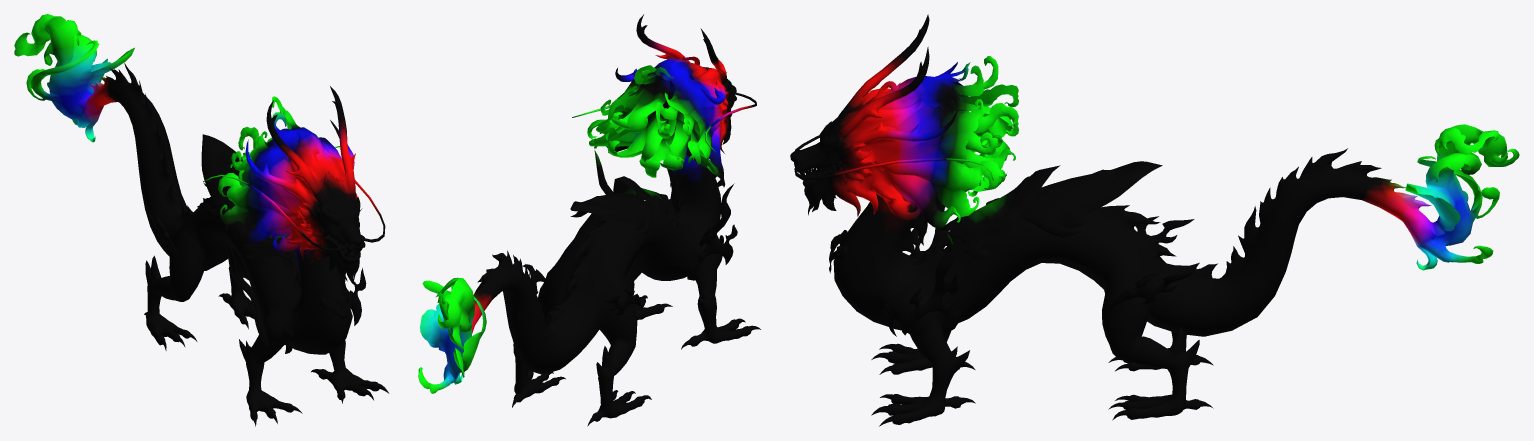
The model's file is long_4.fbx.
3 renders of one model, left to right at view 1: azimuth 30°, elevation 25°; view 2: azimuth 150°, elevation 25°; view 3: azimuth 270°, elevation 25°, orthographic. The views are drawn at different scales.
Visible parts, largest first — view 1: 对象001; view 2: 对象001; view 3: 对象001.
Part boxes in pixels (bbox=[...]): 对象001: bbox=[14, 14, 389, 426]; 对象001: bbox=[418, 14, 760, 426]; 对象001: bbox=[790, 14, 1519, 426].
Size of the model in its own units: 2.67 by 5.43 by 9.96.
